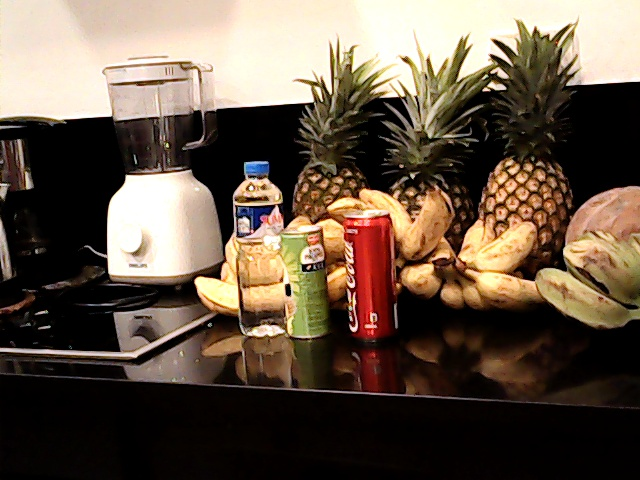Cola: (334, 200, 409, 348)
Pine Juice: (282, 220, 335, 349)
Summit Water: (223, 151, 282, 344)
